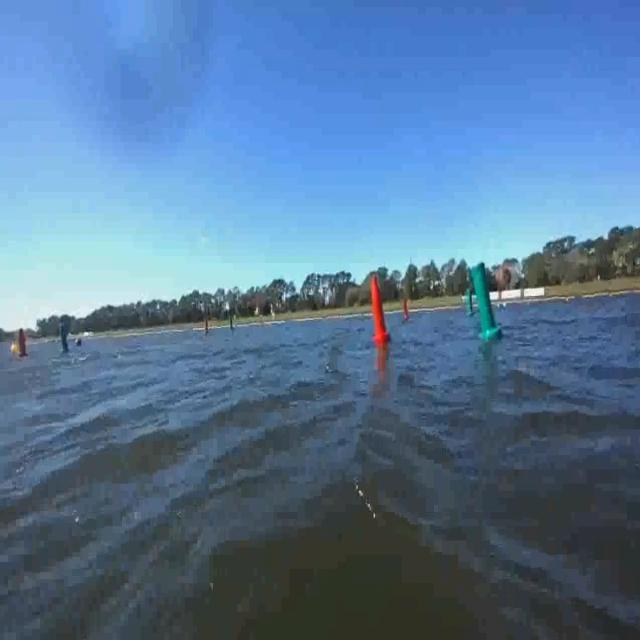green-column-buoy: (473, 264, 504, 341), (467, 289, 478, 315), (228, 315, 234, 335)
red-column-buoy: (369, 275, 392, 344), (16, 328, 28, 359), (204, 316, 212, 336), (404, 297, 411, 319)
yellow-buoy: (10, 342, 18, 355)
